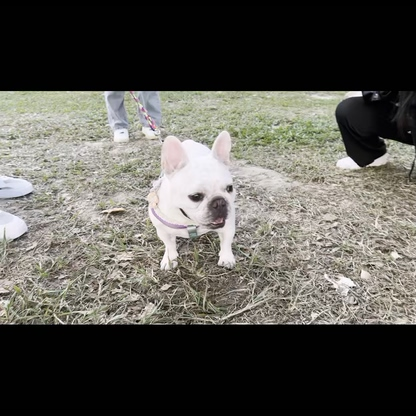bulldog: (143, 127, 244, 275)
